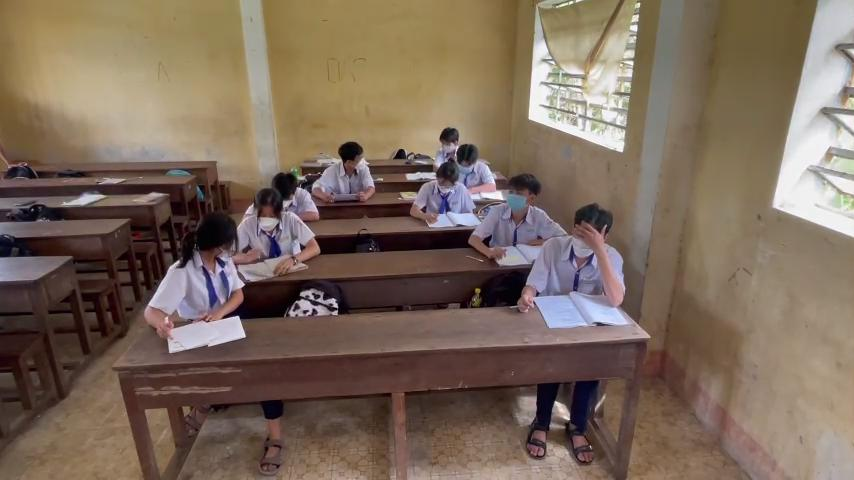Hand Under Table: (408, 165, 474, 232)
Look Around: (177, 206, 237, 272), (322, 129, 379, 181)
Normal: (242, 186, 316, 273), (501, 170, 551, 220), (434, 125, 458, 158)
Wave: (574, 218, 632, 306)
